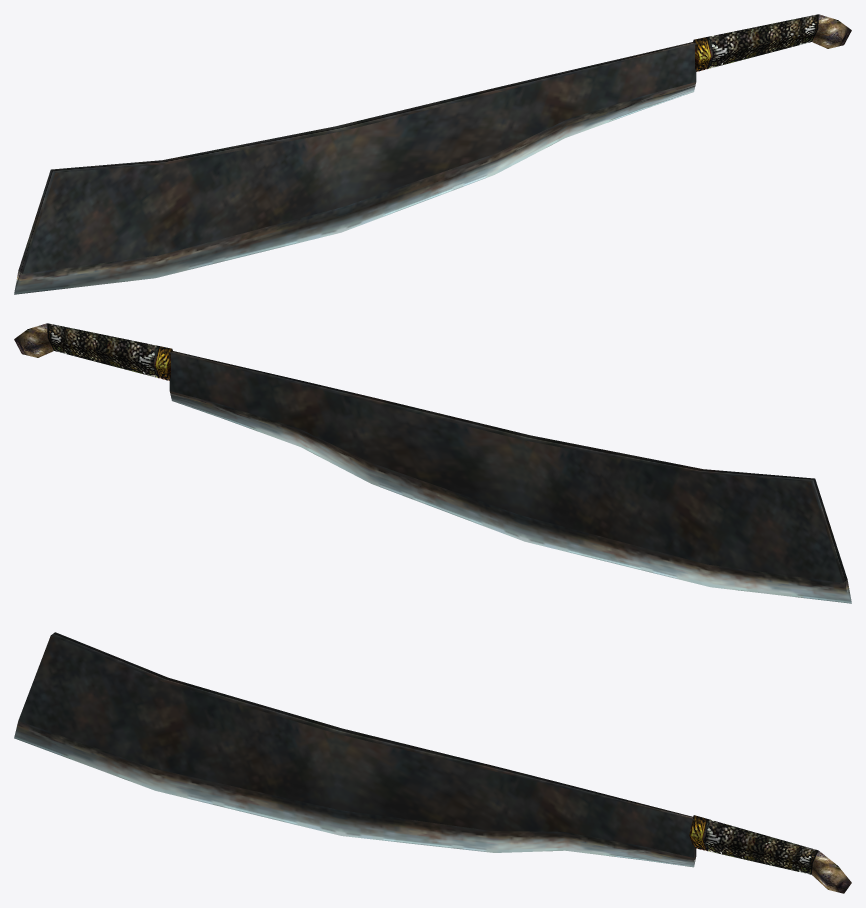
3 renders of one model, top to bottom at view 1: azimuth 30°, elevation 25°; view 2: azimuth 150°, elevation 25°; view 3: azimuth 330°, elevation 25°, orthographic.
Parts seen in each view (by area): view 1: KLINGE; view 2: KLINGE; view 3: KLINGE.
Part boxes in pixels (<box>): KLINGE: <box>14,14,851,294</box>; KLINGE: <box>14,323,851,603</box>; KLINGE: <box>14,632,851,893</box>.
Bounding box in the file's own units: 84.75 × 12.76 × 2.
